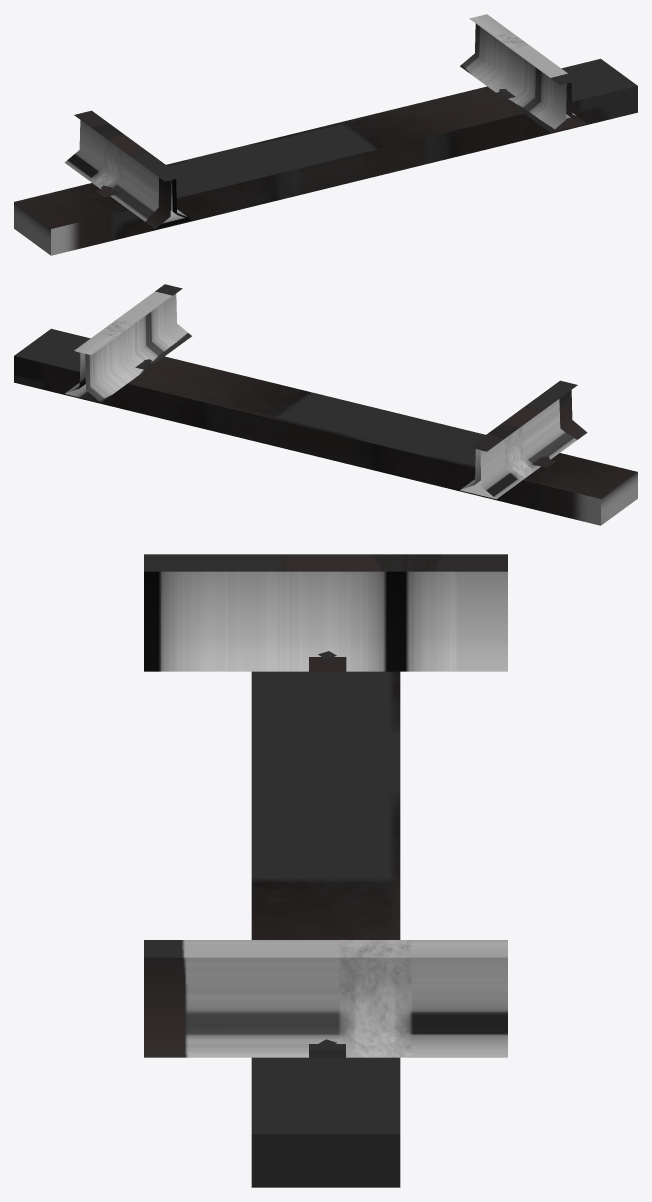
The model's file is mtr_default.obj.
3 views of the same model, one above another, from view 1: azimuth 30°, elevation 25°; view 2: azimuth 150°, elevation 25°; view 3: azimuth 270°, elevation 25° (orthographic). The views are drawn at different scales.
Visible parts, largest first — view 1: sleeper, rail; view 2: sleeper, rail; view 3: rail, sleeper, spikes.
Part boxes in pixels (box(x1,y1,x2,y2)): sleeper: box(14, 58, 637, 255); rail: box(64, 14, 586, 229); sleeper: box(14, 328, 637, 525); rail: box(65, 284, 587, 499); rail: box(144, 554, 507, 1057); sleeper: box(251, 671, 400, 1187); spikes: box(309, 651, 346, 1058).
Size of the model in its own units: 2.23 by 0.2643 by 0.6.
Materials: 4 (4 with a texture image).
